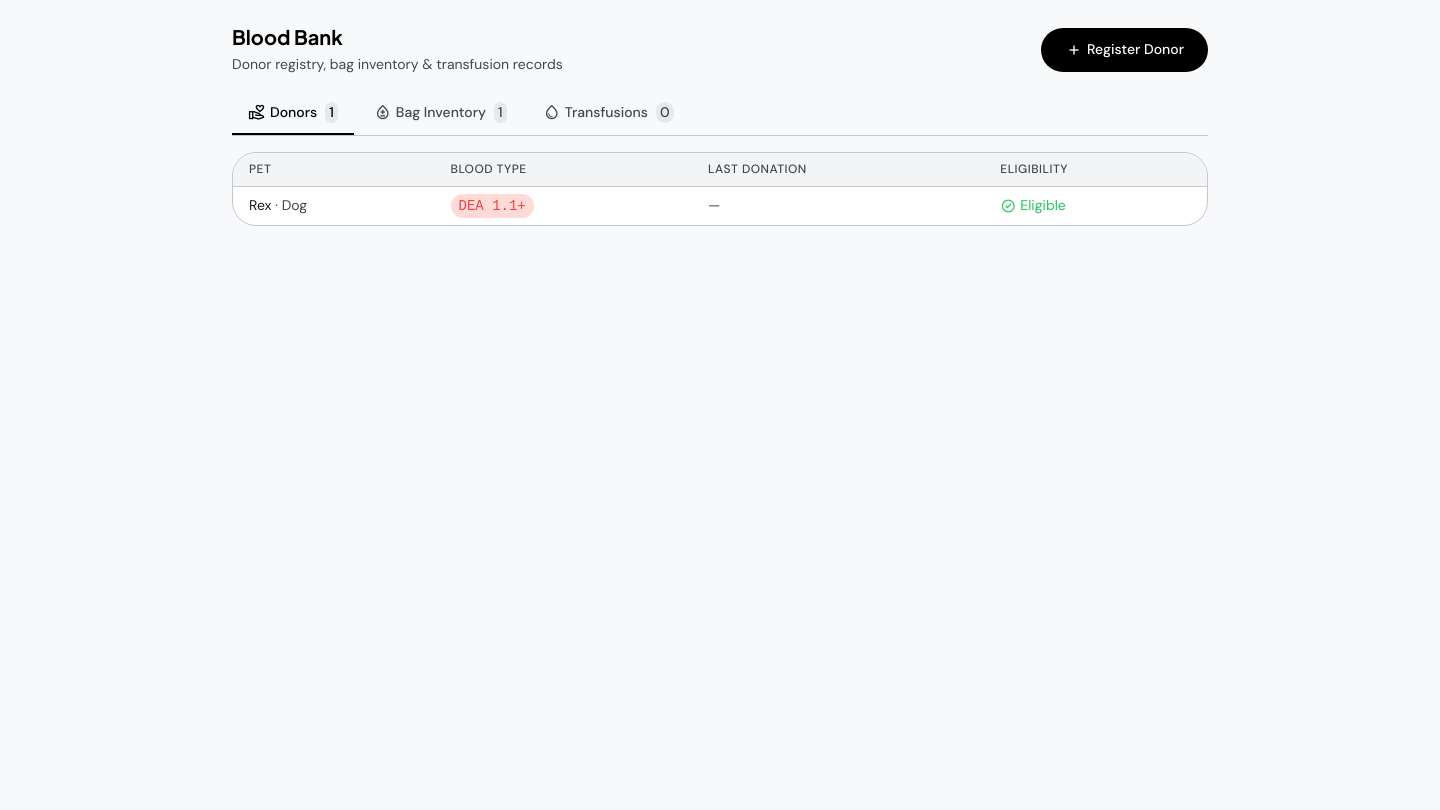
it: AdminBloodBank — clinic_staff lacks bloodbank.manage: every write is denied server-side (MODAL-9 negative AC) › MODAL-9-REGR: a denied donor registration keeps the dialog open and records nothing
Click the button "Register Donor": click(1124, 50) [1041,28,1208,72]
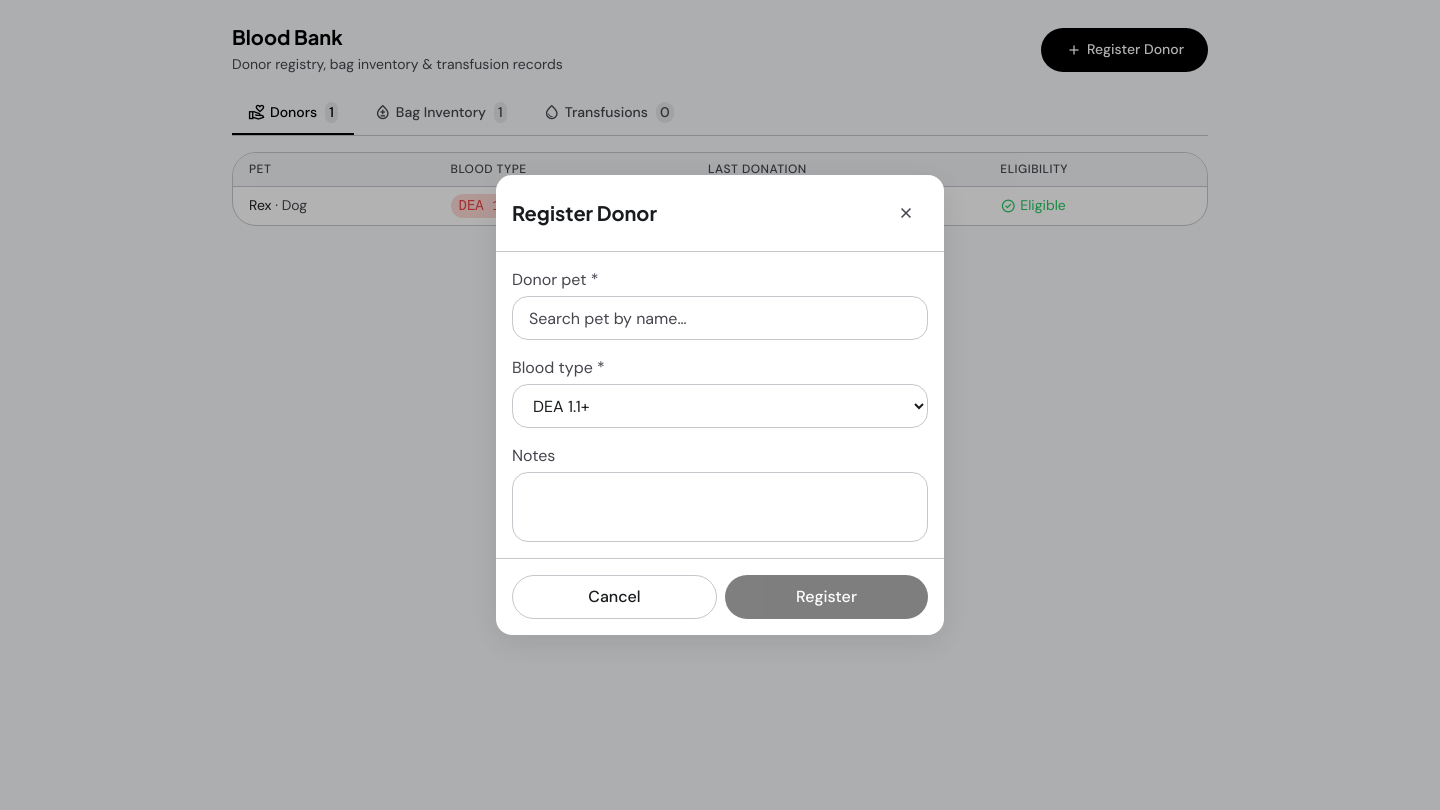
In the field with placeholder "Search pet by name…": (720, 318) [512,296,928,340], type "Bel"
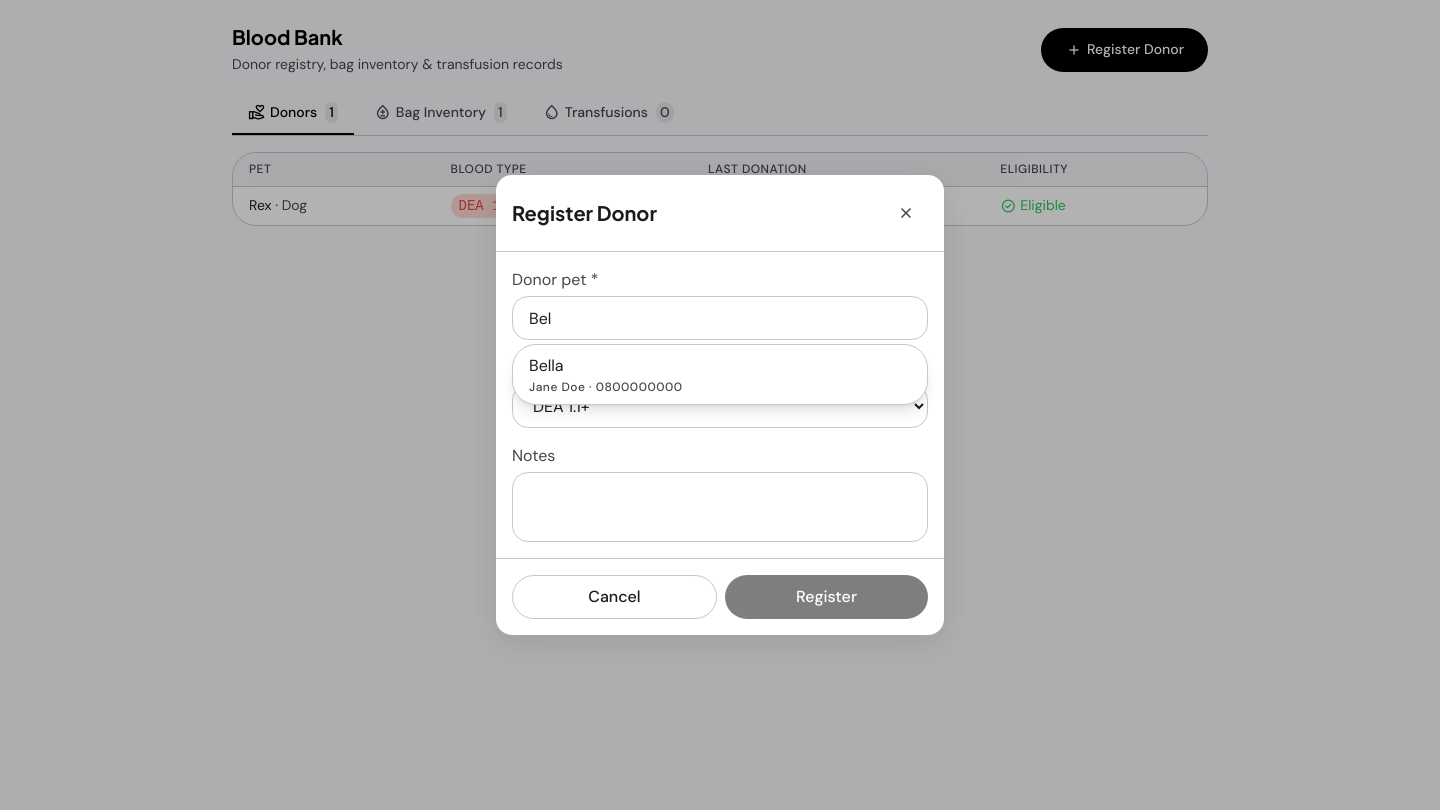
Click the text "Bella": click(546, 366) [529,355,564,376]
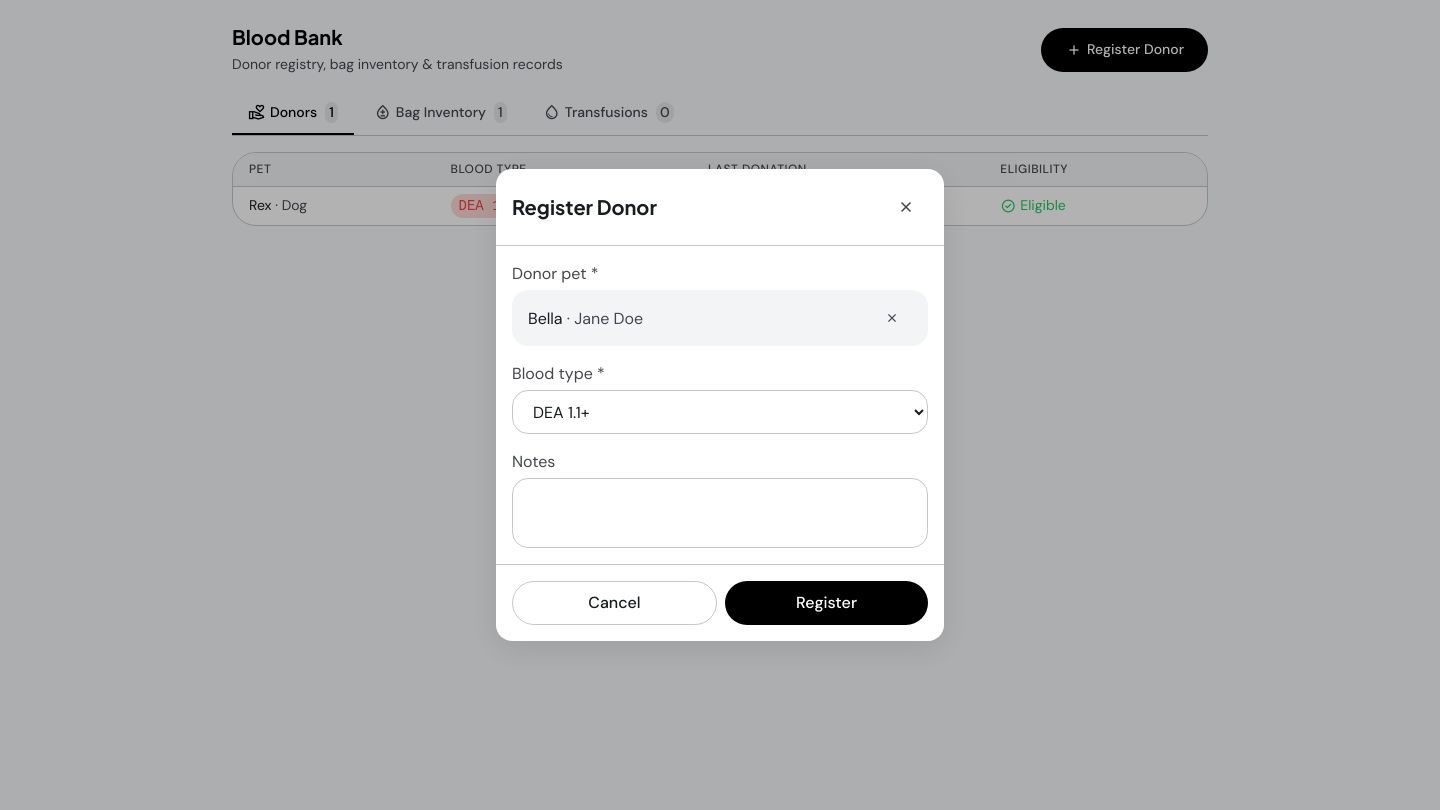
Click the button "Register": click(826, 603) [725,581,928,625]
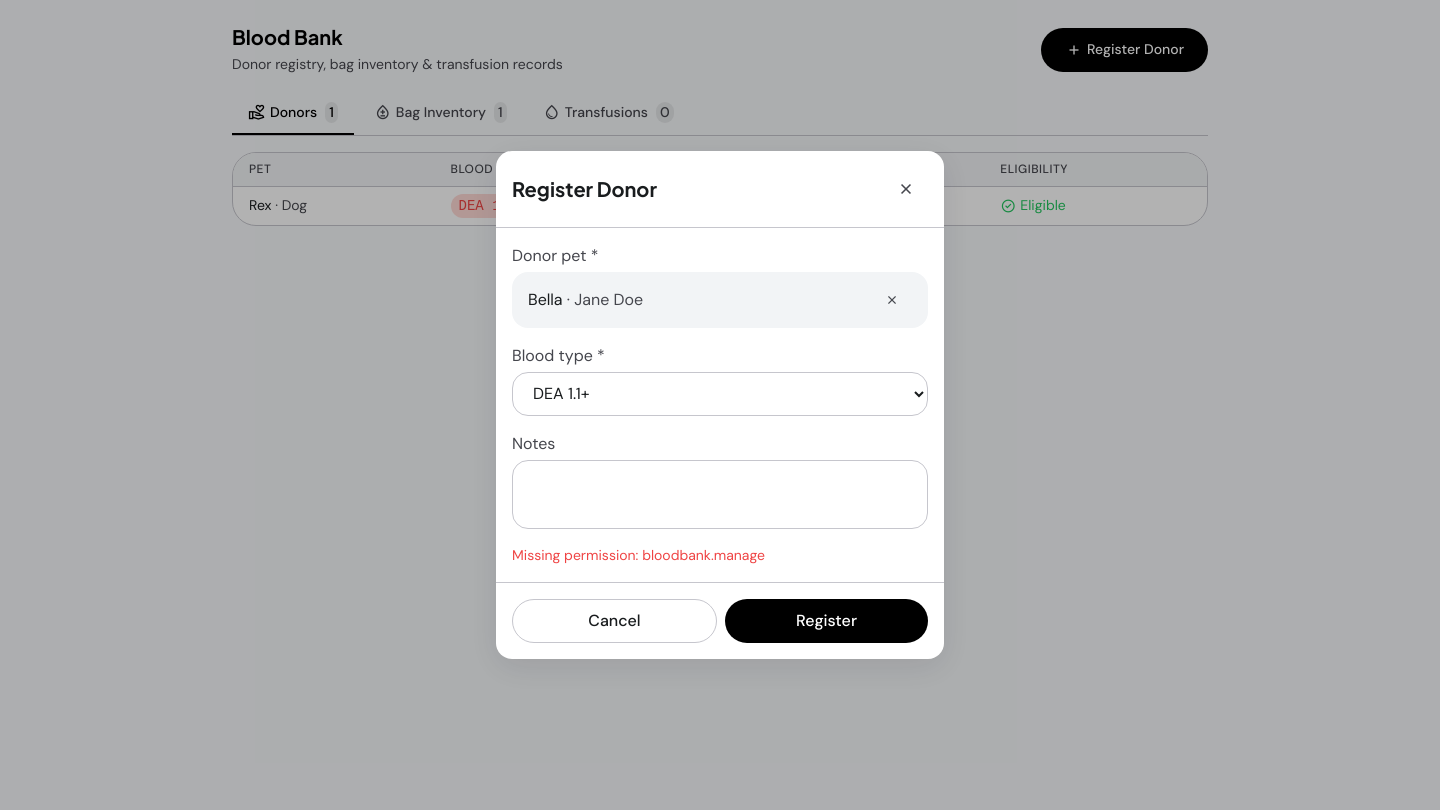
Expected: the dialog is shown, [496,151,944,659]
Expected: the text "Missing permission: bloodbank.manage" is shown, [512,546,765,564]
